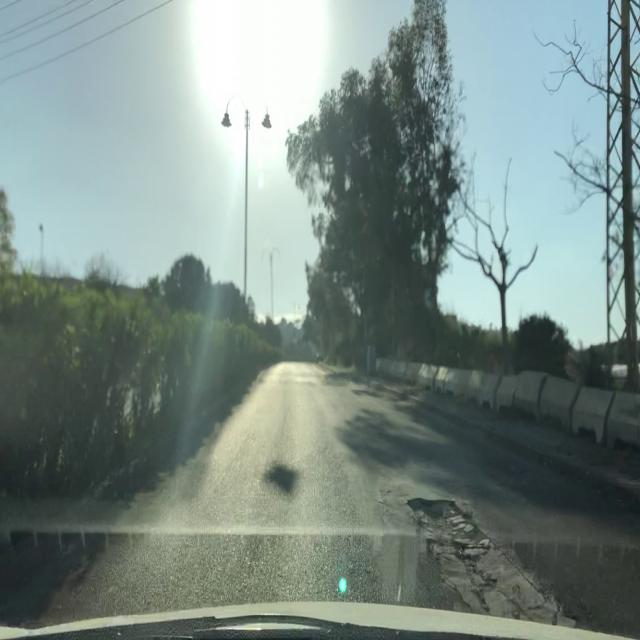Pothole: (401, 487, 583, 630)
